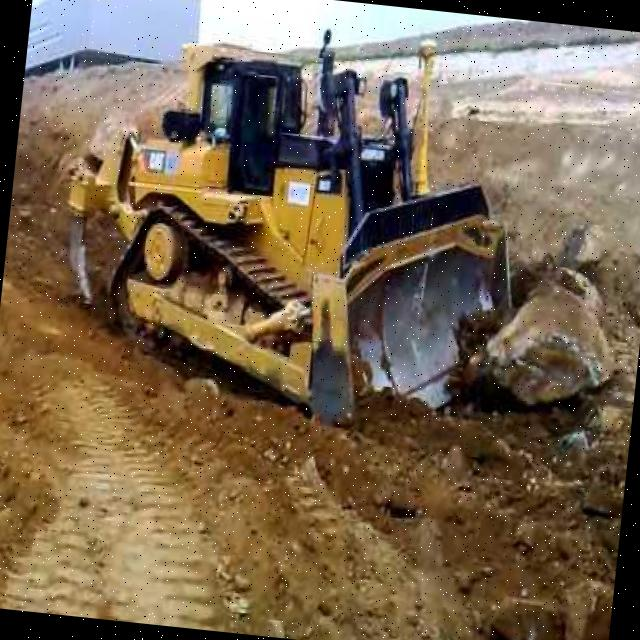Bulldozer: (49, 0, 563, 465)
